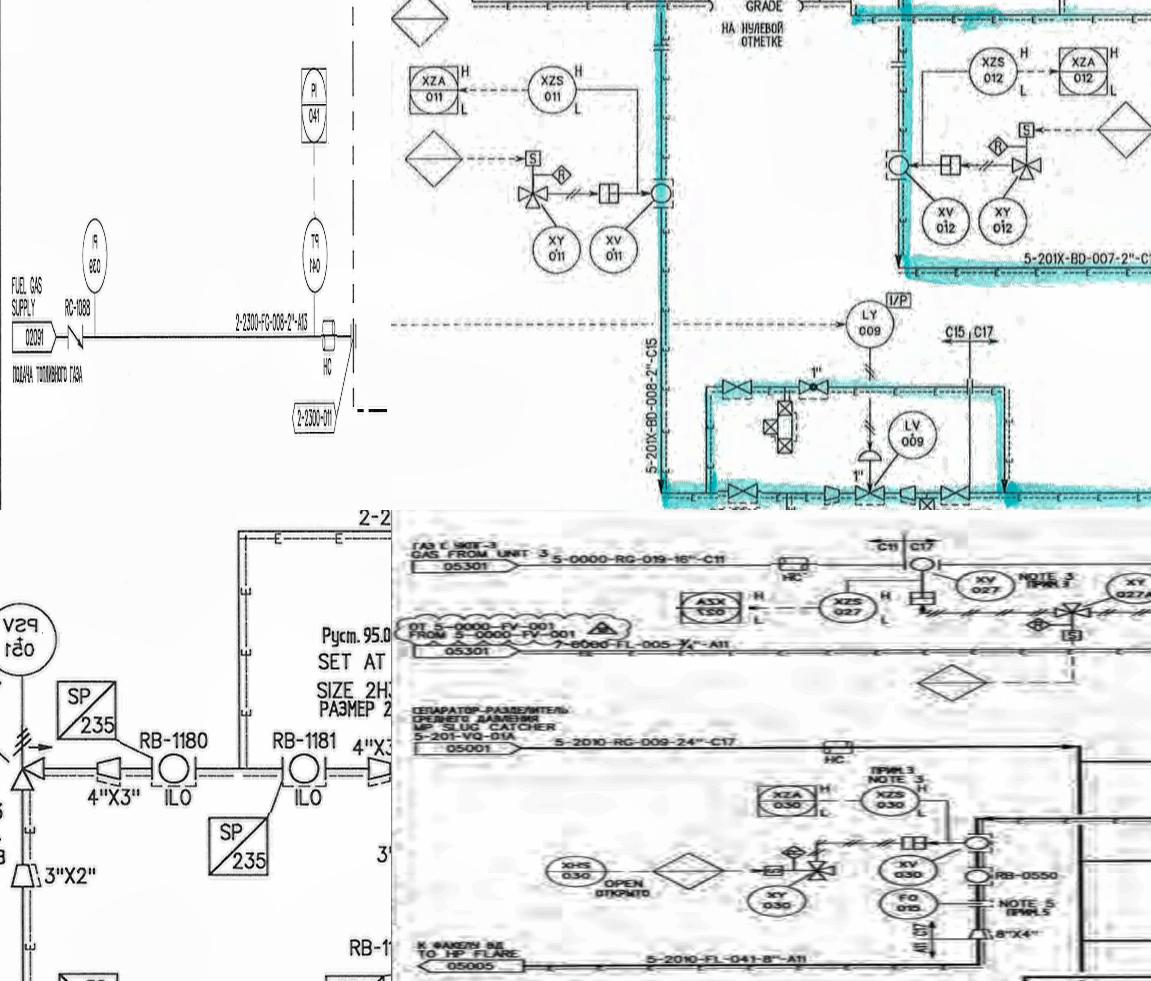2 WAY VALVE: (758, 395, 803, 463), (321, 316, 337, 355), (902, 496, 941, 510)
3 WAY GENERAL VALVE: (511, 182, 556, 211), (1009, 154, 1048, 184)
ANGLERELIEF VALVE: (10, 726, 52, 792)
CONCENTRIC REDUCER: (814, 477, 844, 510), (94, 752, 124, 784), (10, 858, 38, 890), (365, 754, 391, 783), (898, 479, 919, 505)
DCS ACCESSIBLE: (404, 57, 464, 124), (1053, 38, 1115, 97), (300, 64, 328, 148)
DIAPHRAGM ACTUATED VALVE: (850, 446, 889, 506)
FIELD INSTRUMENT: (0, 599, 60, 676), (882, 408, 946, 460), (969, 38, 1020, 100), (839, 296, 898, 347), (586, 224, 638, 278), (526, 64, 579, 116), (978, 196, 1032, 245), (922, 193, 972, 242), (532, 225, 582, 273), (300, 214, 328, 294), (81, 217, 108, 294), (154, 749, 196, 787), (284, 750, 326, 786), (880, 150, 915, 186), (646, 178, 674, 211)
GATE VALVE: (718, 479, 762, 510), (715, 374, 755, 403), (938, 479, 977, 508)
GLOBE VALVE: (795, 372, 834, 400)
HARDWIRED INTERLOCK PRIMARY.: (398, 128, 470, 192), (1094, 96, 1151, 165), (391, 0, 450, 50), (983, 132, 1012, 157), (550, 164, 574, 185)
IP CONVERTER: (877, 285, 918, 313)
SPECIAL PIPING ITEM: (205, 812, 273, 878), (56, 678, 120, 745)
SPEED FLOW METER: (518, 144, 544, 170), (1014, 116, 1040, 142)
